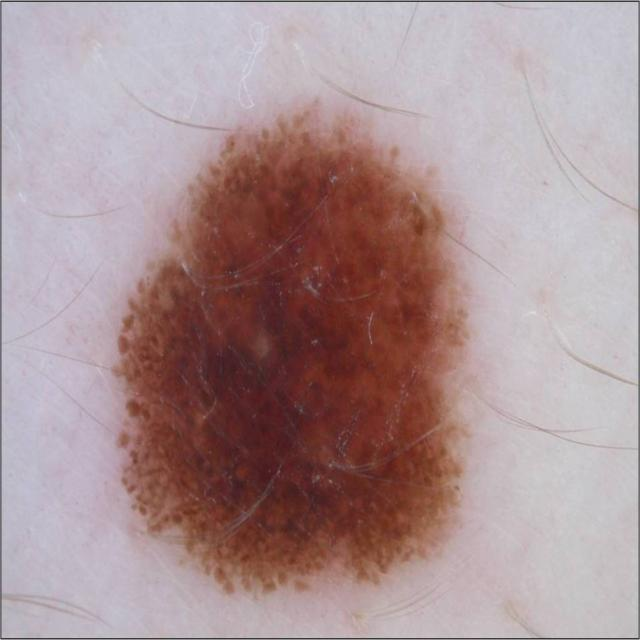Benign: (108, 104, 470, 600)
